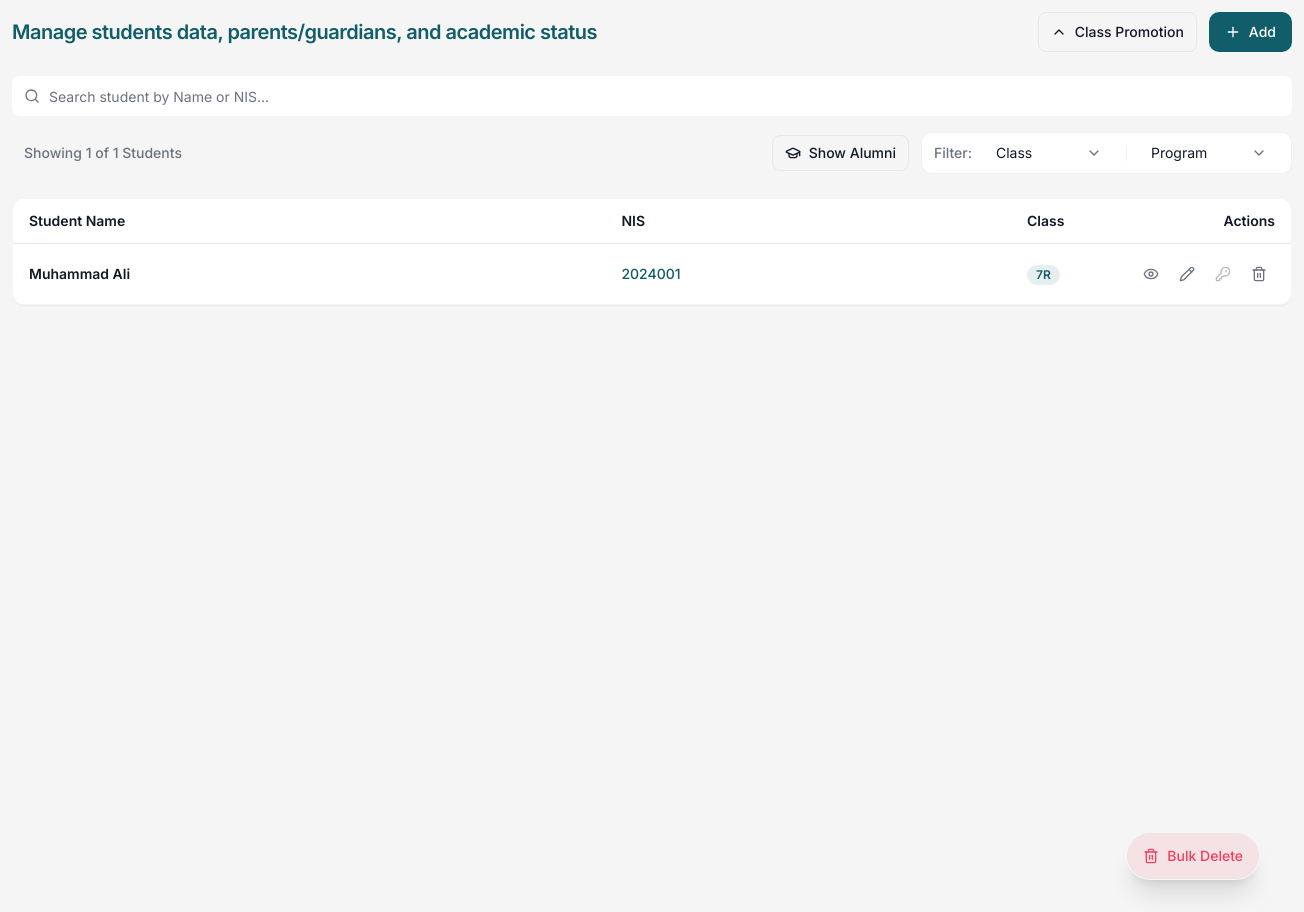
Test: SantriPage Integration Test › should toggle selection mode when FAB is clicked and allow cancelling
The image size is (1304, 912).
Click FAB trigger to enter selection mode
Click the button "Bulk Delete".
click(1193, 856)  # box [1126,832,1260,880]
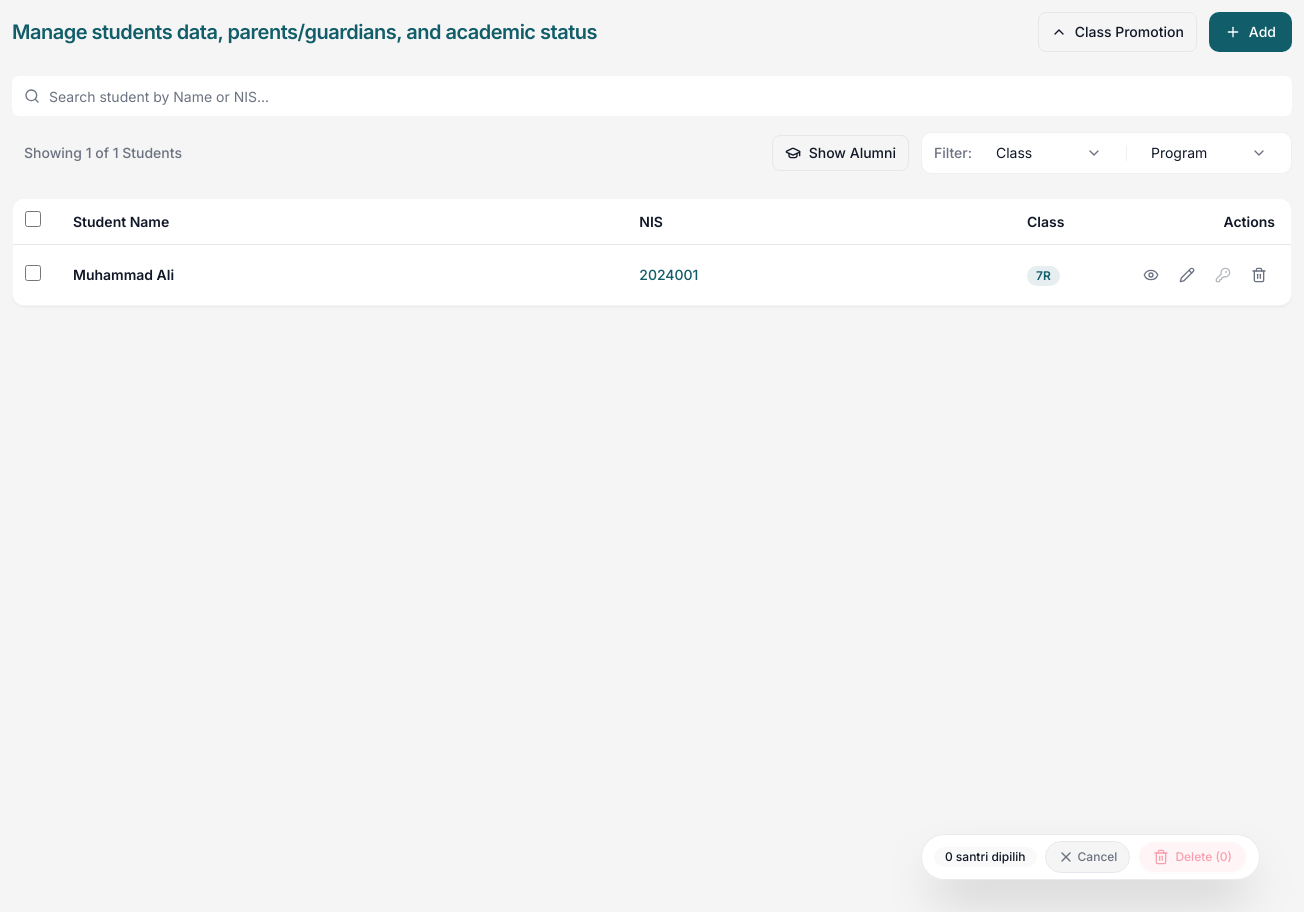
Check: the checkbox named "Pilih Semua Santri" is shown, box [25,211,41,227]
Select student
Click the checkbox named "Pilih santri Muhammad Ali".
click(33, 272)  # box [25,264,41,280]
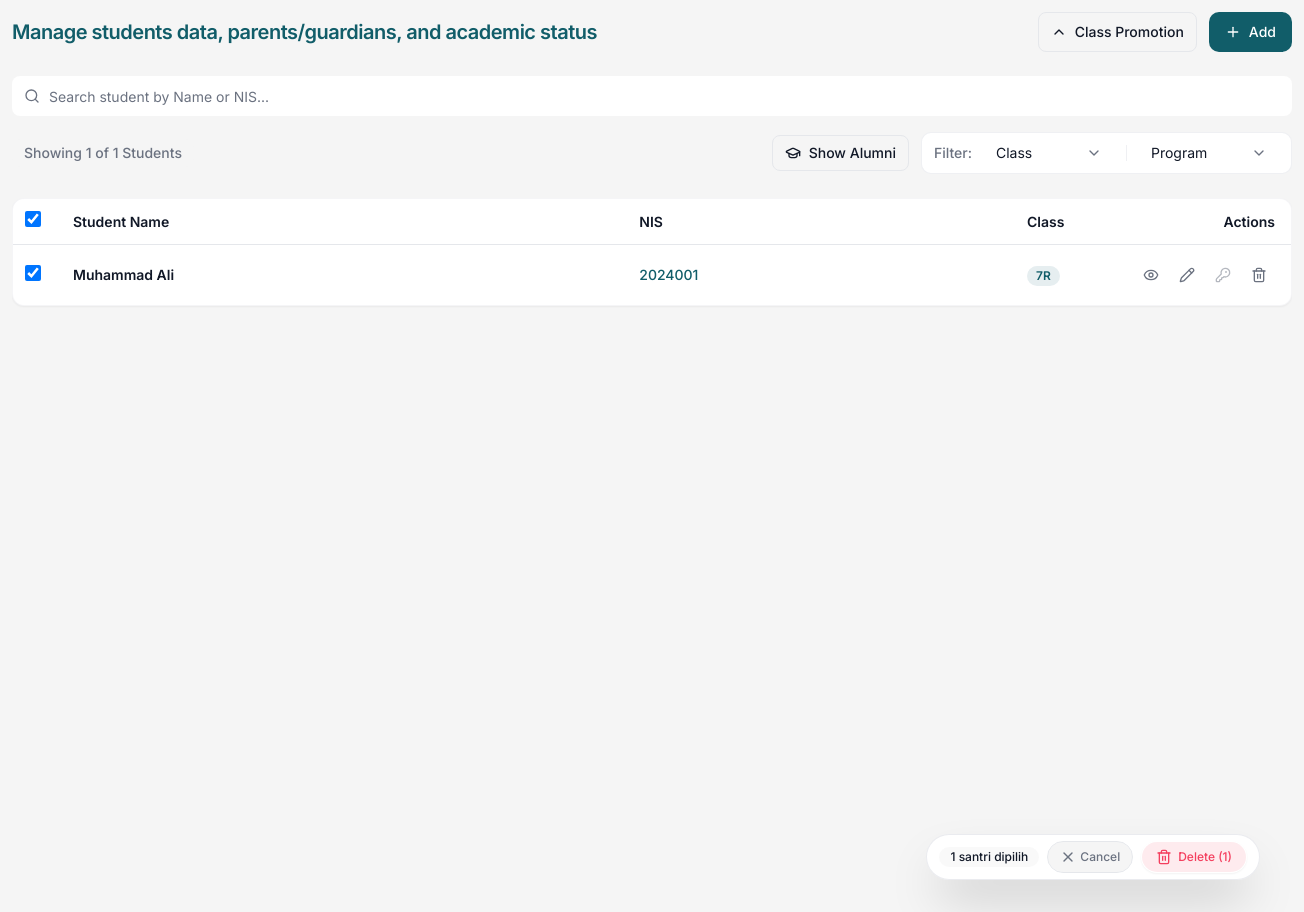
Check: the text "1 santri dipilih" is shown, box [939,847,1039,867]
Click Cancel FAB button
Click the button "Cancel".
click(1090, 857)  # box [1047,841,1133,873]
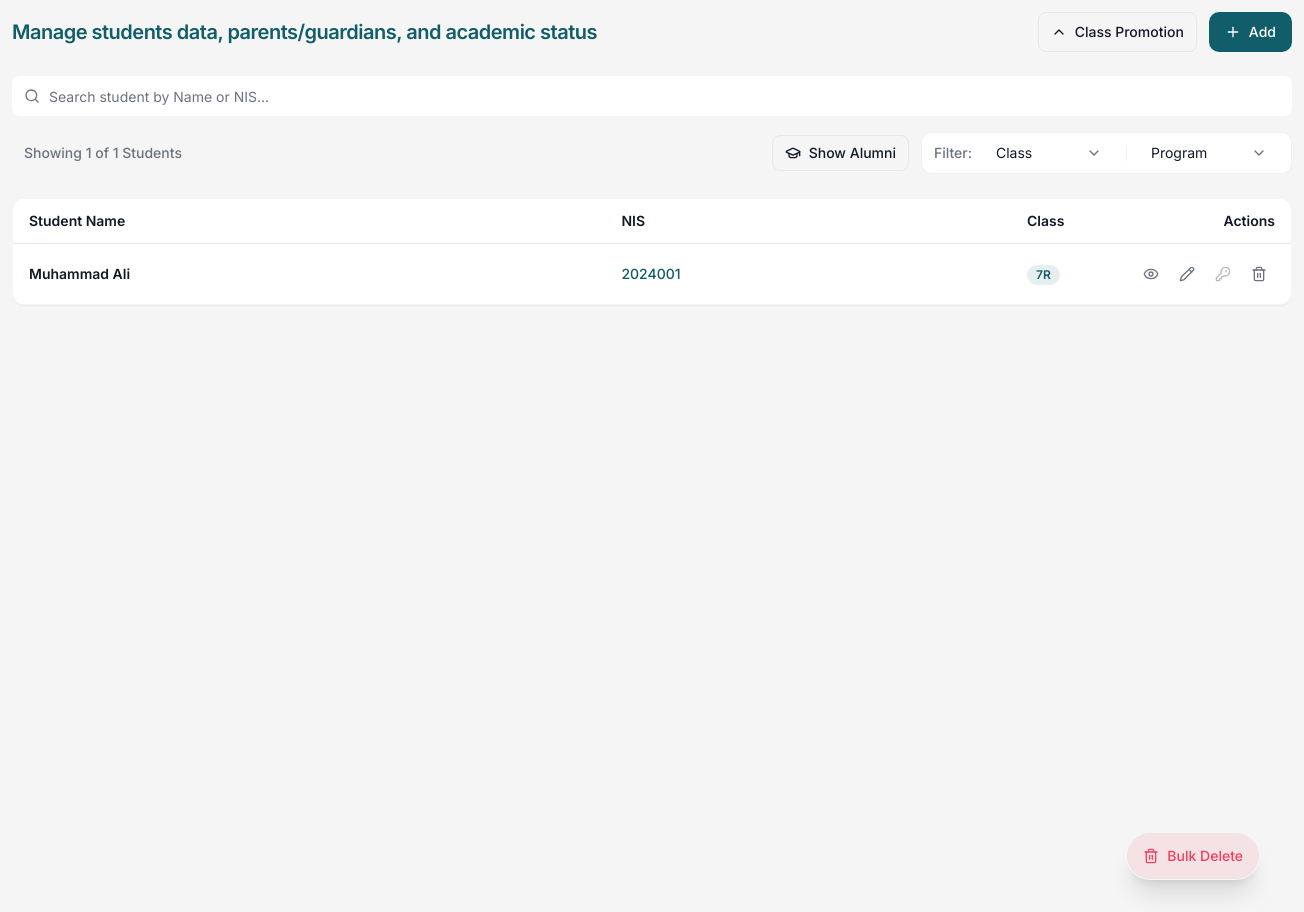
Check: the checkbox is gone
